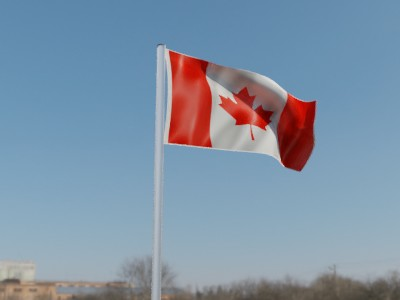Canada flag: (166, 50, 316, 174)
